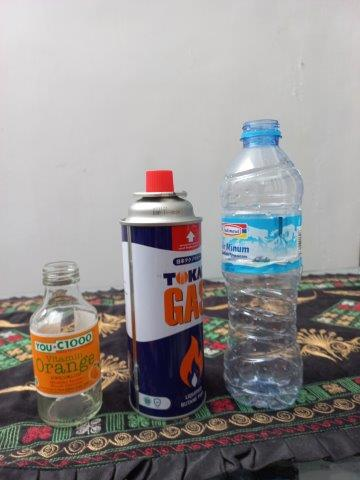botolkaca: (30, 262, 105, 425)
botolplastik: (221, 120, 302, 409)
kaleng: (121, 171, 206, 418)
